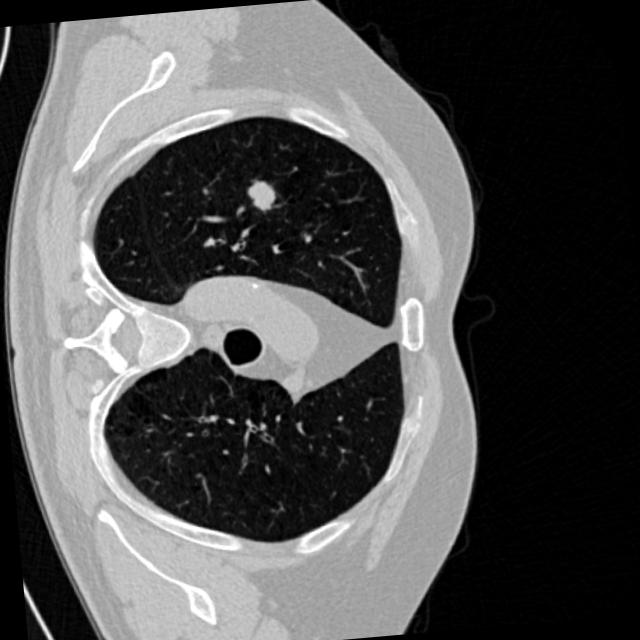nodule: (230, 164, 296, 230)
